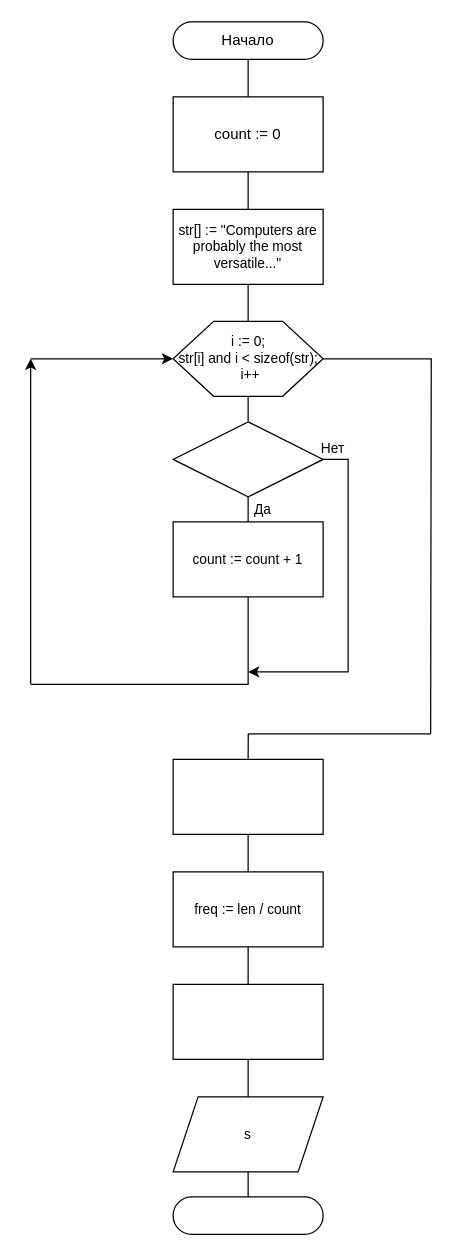
The diagram is 455 pixels wide and 1256 high, and some of its shapes have lost their labels. Each missing label, with the centre of its shape:
len := (sizeof(str) - 1): point 247,796
sprintf(s, "%f", freq): point 247,1021
str[i] = 'a': point 247,459
Конец: point 247,1215
